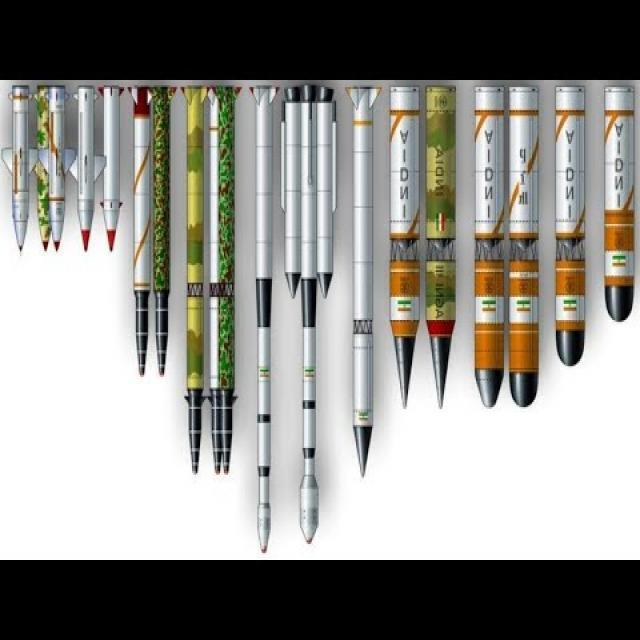missile: (345, 84, 382, 491), (504, 80, 544, 428), (381, 80, 418, 425), (424, 86, 460, 428), (552, 85, 594, 370), (471, 80, 504, 423), (251, 83, 274, 556), (600, 70, 636, 347), (600, 93, 634, 331), (294, 292, 322, 550), (281, 87, 307, 303), (316, 90, 342, 300), (97, 87, 127, 253)
